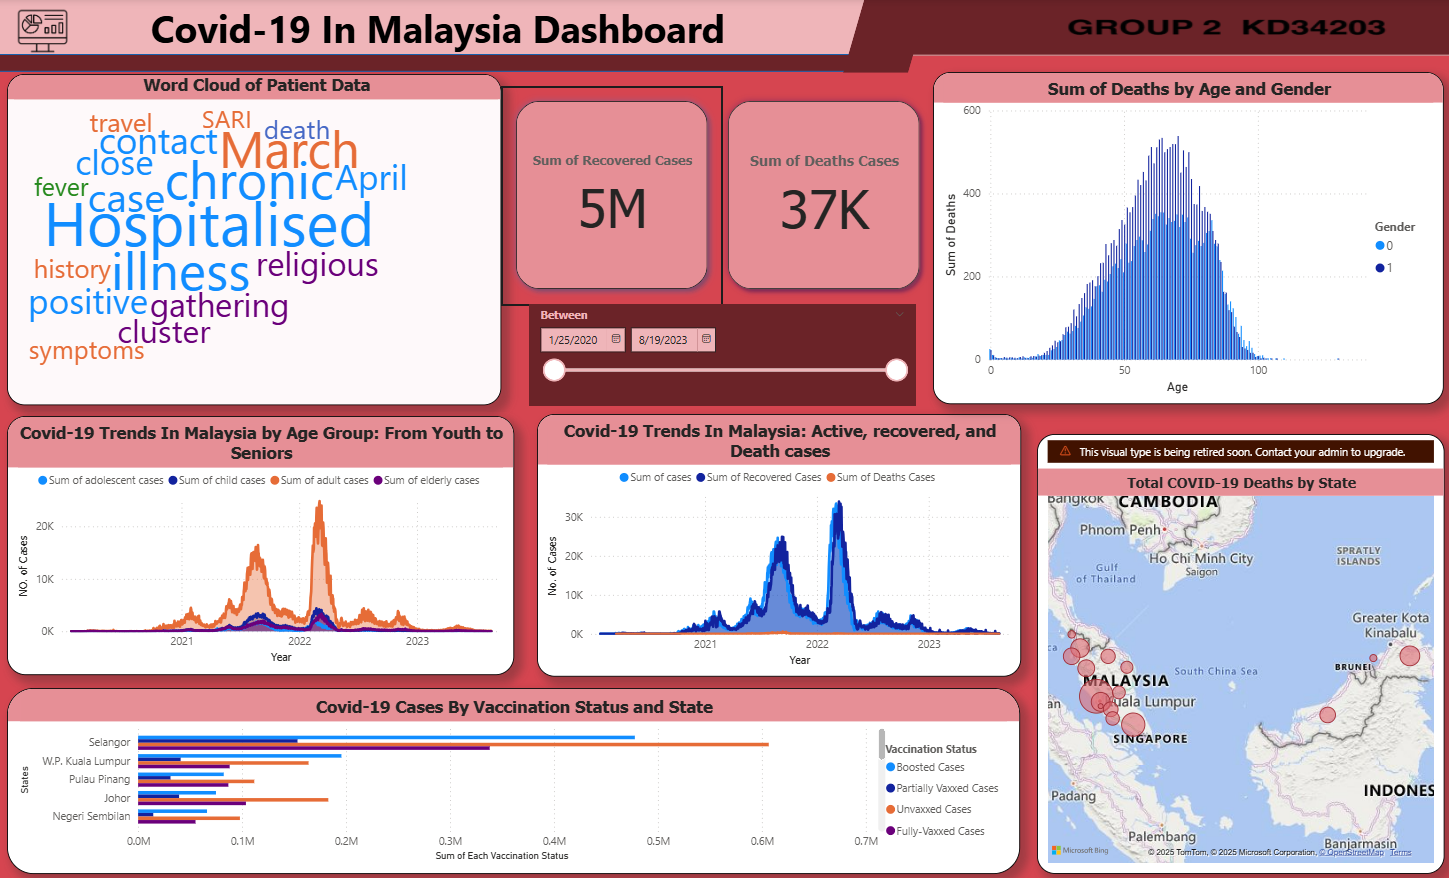

Layout of this report page (visuals, bound fields, positions):
{"tool":"powerbi","page":{"name":"DV ASSIGN","canvas":[1650,1000],"ordinal":0},"visuals":[{"type":"textbox","box":[0,0,990.6,73.7],"z":0},{"type":"shape","box":[0,64.3,1025.7,20],"z":1000},{"type":"shape","box":[1025,0,625,65],"z":2000},{"type":"image","box":[0,0,98.6,74.3],"z":3000},{"type":"WordCloud1447959067750","title":"Word Cloud of Patient Data","fields":{"Category":["Cases_Death_cleaned.Patient Data"]},"box":[10,86,558,374],"z":4000},{"type":"areaChart","title":"Covid-19 Trends In Malaysia: Active, recovered, and Death cases","fields":{"Category":["cases_malaysia (3).date"],"Y":["Sum(cases_malaysia (3).cases)","Sum(cases_malaysia (3).recovered_cases)","Sum(deaths_malaysia.deaths_new)"]},"box":[606.7,470,546.7,296.7],"z":5000},{"type":"areaChart","title":"Covid-19 Trends In Malaysia by Age Group: From Youth to Seniors","fields":{"Category":["cases_malaysia (3).date"],"Y":["Sum(cases_malaysia (3).adolescent cases)","Sum(cases_malaysia (3).child cases)","Sum(cases_malaysia (3).adult cases)","Sum(cases_malaysia (3).elderly cases)"]},"box":[10,472.5,572.5,292.5],"z":6000},{"type":"shape","box":[951.7,0,97.9,84.5],"z":7000},{"type":"clusteredBarChart","title":"Covid-19 Cases By Vaccination Status and State","fields":{"Category":["covid_cases_vaxstatus.state"],"Y":["Sum(covid_cases_vaxstatus.cases_boost)","Sum(covid_cases_vaxstatus.cases_pvax)","Sum(covid_cases_vaxstatus.cases_unvax)","Sum(covid_cases_vaxstatus.cases_fvax)"]},"box":[10,778.3,1143.3,210],"z":8000},{"type":"map","title":"Total COVID-19 Deaths by State","fields":{"Category":["covid_deaths_linelist.state"],"Size":["Sum(covid_deaths_linelist.death_count)"]},"box":[1171.7,491.7,460,496.7],"z":9000},{"type":"cardVisual","title":"Recovered Cases","fields":{"Data":["Sum(cases_malaysia (3).recovered_cases)"]},"box":[566.7,100,250,246.7],"z":10000},{"type":"image","box":[1153.3,1.1,437.8,64.4],"z":11000},{"type":"clusteredColumnChart","title":"Sum of Deaths by Age and Gender","fields":{"Y":["Sum(covid_deaths_linelist.death_count)"],"Category":["covid_deaths_linelist.age"],"Series":["covid_deaths_linelist.male"]},"box":[1055,83.3,576.7,375],"z":12000},{"type":"cardVisual","fields":{"Data":["Sum(deaths_malaysia.deaths cases)"]},"box":[806.7,100,250,246.7],"z":13000},{"type":"slicer","fields":{"Values":["cases_malaysia (3).date"]},"box":[598,346,436,114],"z":14000}]}

Visuals, with their boxes in screenshot pixels (x1, y1, x2, y2), scaled from the page's 1650x1000 canvas onto the 1449x878 screenshot:
textbox: Rect(0, 0, 870, 65)
shape: Rect(0, 56, 901, 74)
shape: Rect(900, 0, 1448, 57)
image: Rect(0, 0, 87, 65)
"Word Cloud of Patient Data" WordCloud1447959067750: Rect(9, 76, 499, 404)
"Covid-19 Trends In Malaysia: Active, recovered, and Death cases" areaChart: Rect(533, 413, 1013, 673)
"Covid-19 Trends In Malaysia by Age Group: From Youth to Seniors" areaChart: Rect(9, 415, 512, 672)
shape: Rect(836, 0, 922, 74)
"Covid-19 Cases By Vaccination Status and State" clusteredBarChart: Rect(9, 683, 1013, 868)
"Total COVID-19 Deaths by State" map: Rect(1029, 432, 1433, 868)
"Recovered Cases" cardVisual: Rect(498, 88, 717, 304)
image: Rect(1013, 1, 1397, 58)
"Sum of Deaths by Age and Gender" clusteredColumnChart: Rect(926, 73, 1433, 402)
cardVisual - Sum(deaths_malaysia.deaths cases): Rect(708, 88, 928, 304)
slicer - cases_malaysia (3).date: Rect(525, 304, 908, 404)
